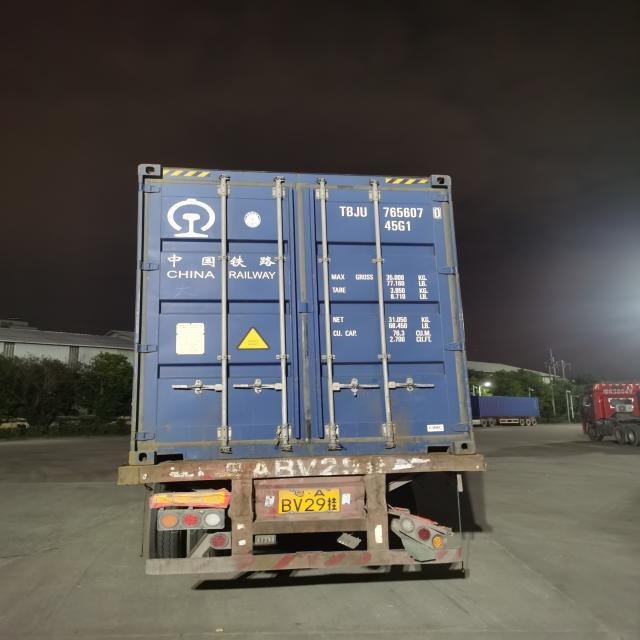ISO: (384, 219, 412, 235)
container_number: (340, 206, 443, 220)
